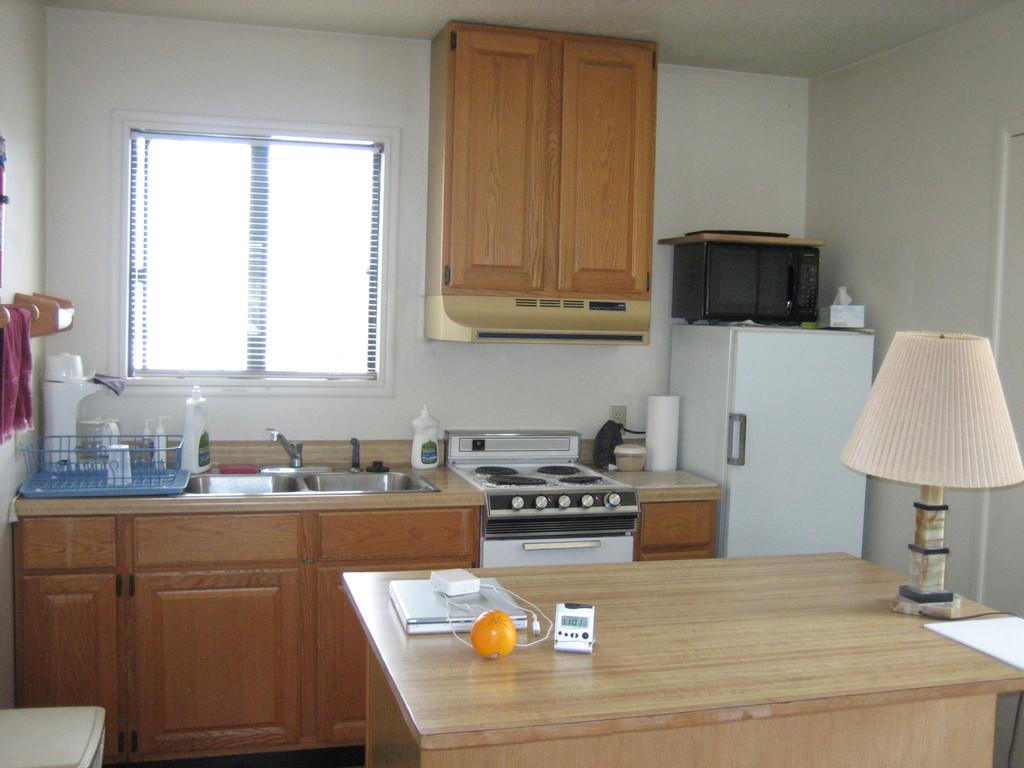cabinet_door: (452, 28, 550, 288), (141, 580, 303, 736), (570, 45, 650, 288), (22, 578, 122, 698), (26, 522, 122, 566)
handle: (732, 413, 746, 465)
